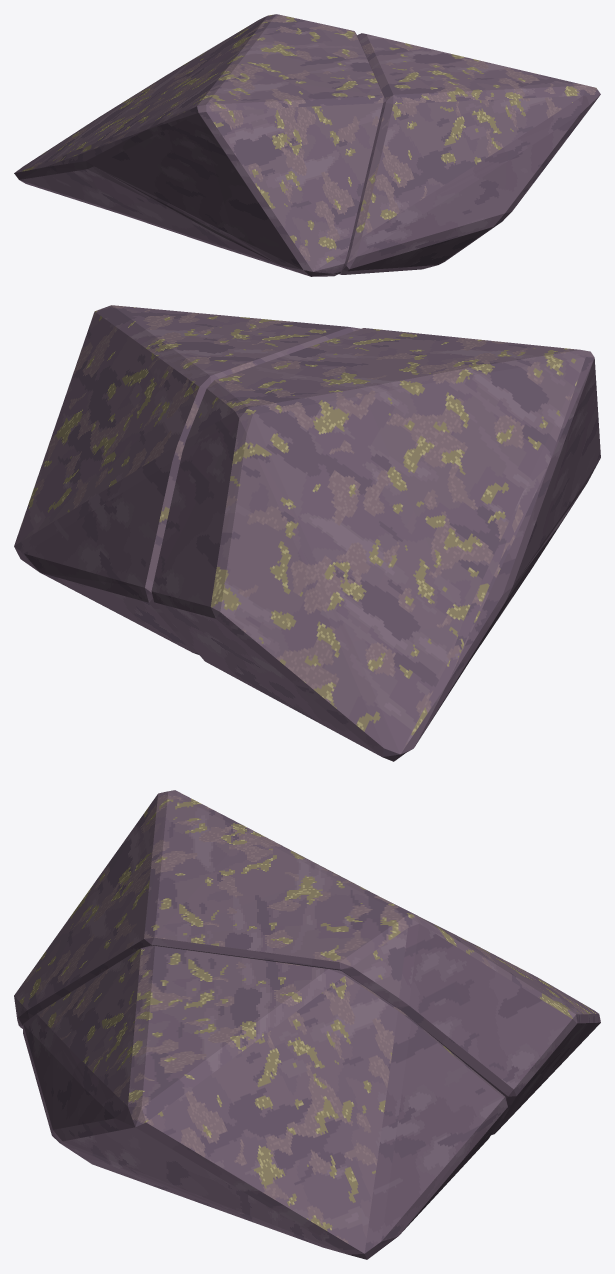
The model's file is P05_Chunk_B.fbx.
The picture shows the model from 3 angles, top to bottom: view 1: azimuth 30°, elevation 25°; view 2: azimuth 150°, elevation 25°; view 3: azimuth 270°, elevation 25°; orthographic projection. The views are drawn at different scales.
Visible parts, largest first — view 1: P05B_0, P05B_1; view 2: P05B_0, P05B_1; view 3: P05B_1, P05B_0.
Part boxes in pixels (box(x1,y1,x2,y2)): P05B_0: box(14, 14, 386, 276); P05B_1: box(339, 33, 600, 274); P05B_0: box(151, 328, 600, 761); P05B_1: box(14, 305, 360, 654); P05B_1: box(23, 945, 507, 1259); P05B_0: box(14, 790, 600, 1135).
Size of the model in its own units: 0.6029 by 0.2665 by 0.5753.
